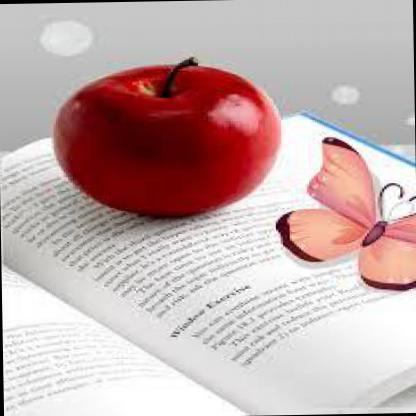apple: (53, 48, 288, 222)
